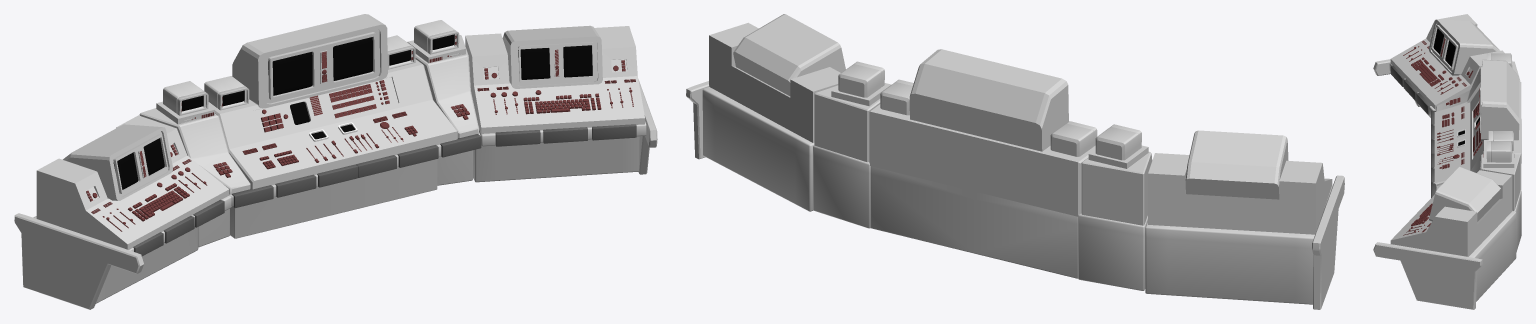
The model's file is ControlComputer07.fbx.
3 renders of one model, left to right at view 1: azimuth 30°, elevation 25°; view 2: azimuth 150°, elevation 25°; view 3: azimuth 270°, elevation 25°, orthographic. The views are drawn at different scales.
Parts seen in each view (by area): view 1: Control_Computer_07; view 2: Control_Computer_07; view 3: Control_Computer_07.
Part boxes in pixels (x1,y1,x2,y2): Control_Computer_07: (14, 14, 657, 309); Control_Computer_07: (686, 14, 1344, 309); Control_Computer_07: (1373, 14, 1521, 309).
Size of the model in its own units: 260 by 68.26 by 75.08.
